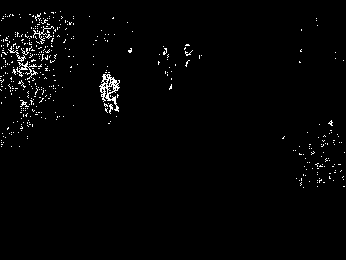person: (99, 69, 122, 125)
